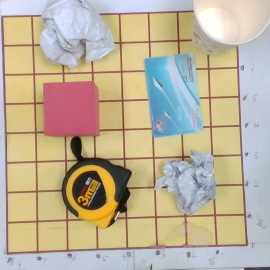card: (143, 52, 204, 139)
cup: (184, 1, 268, 54)
